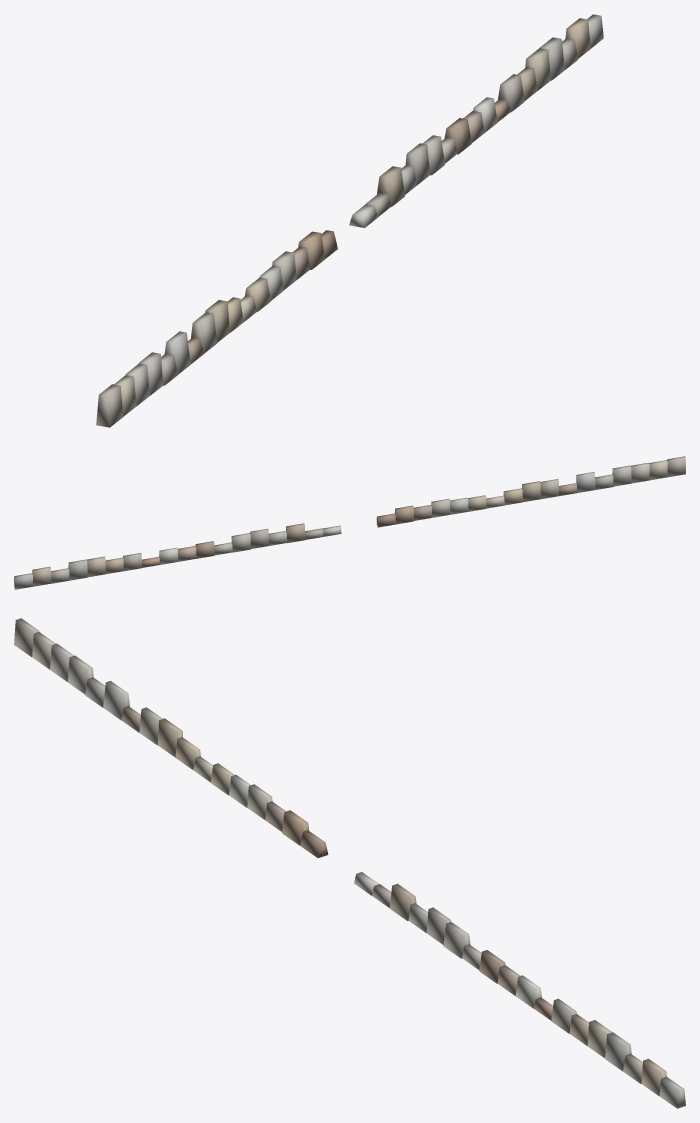
Rendered from farm_-37_-31_collision.glb.
The picture shows the model from 3 angles, top to bottom: view 1: azimuth 30°, elevation 25°; view 2: azimuth 150°, elevation 25°; view 3: azimuth 270°, elevation 25°; orthographic projection. The views are drawn at different scales.
Visible parts, largest first — view 1: geometry_0; view 2: geometry_0; view 3: geometry_0.
Part boxes in pixels (box(x1,y1,x2,y2)): geometry_0: box(96, 14, 603, 427); geometry_0: box(14, 456, 685, 589); geometry_0: box(14, 618, 685, 1108).
Bounding box in the file's own units: 45.54 × 8.28 × 36.59.
